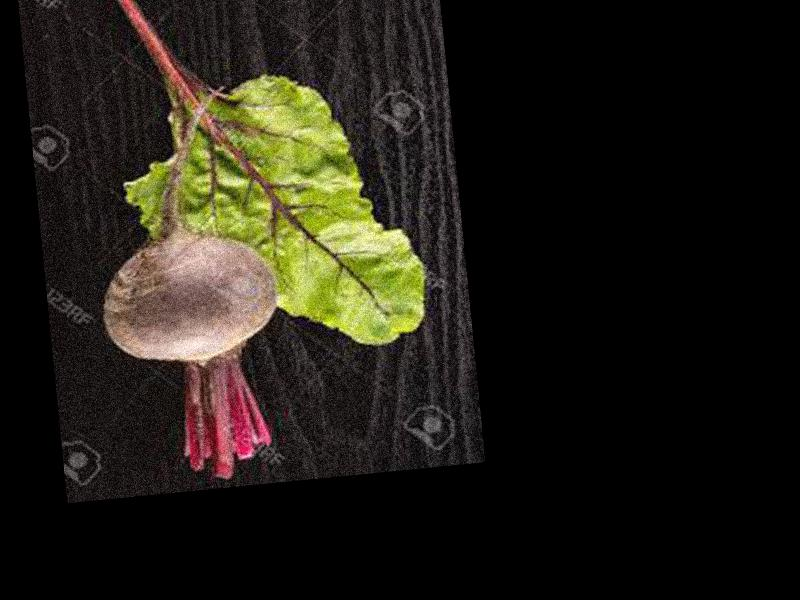Beet: (82, 83, 294, 490)
